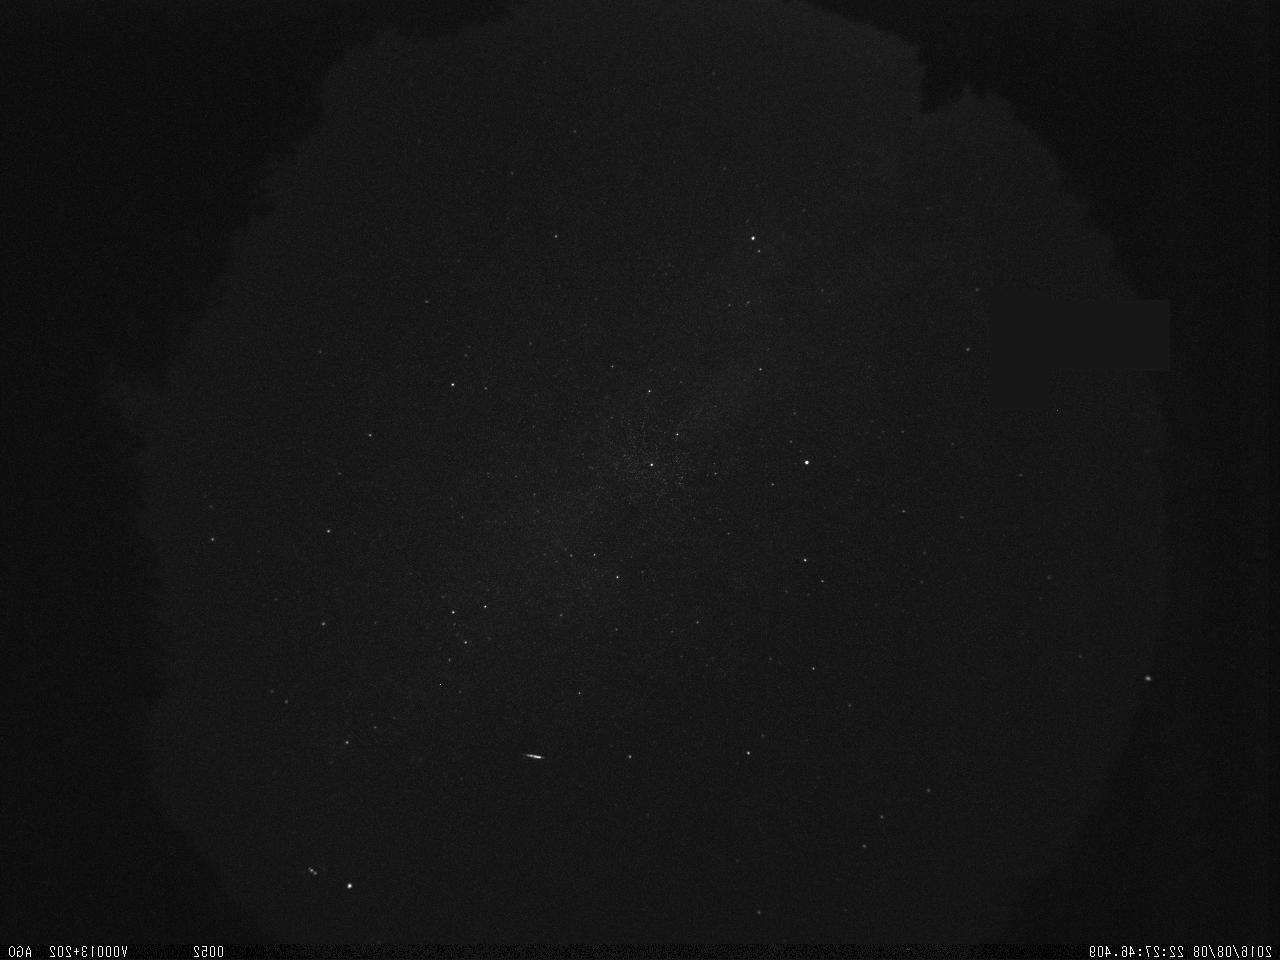meteor: (512, 749, 552, 766)
